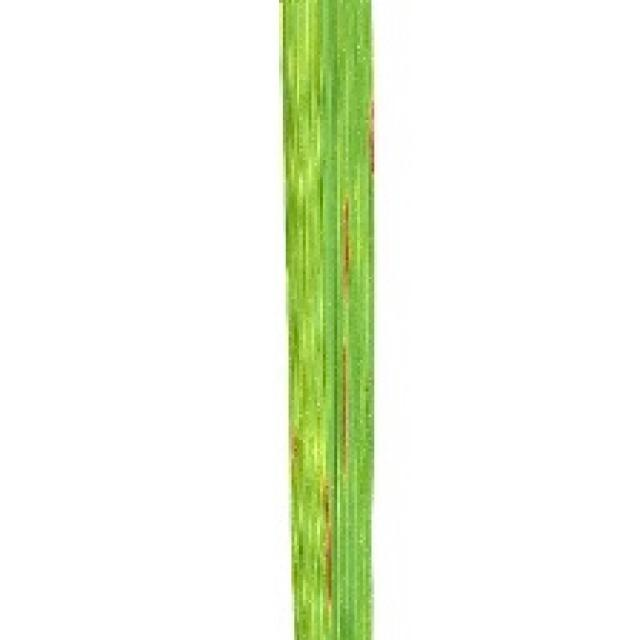Unhealthy: (322, 484, 332, 607), (341, 346, 348, 474), (341, 207, 348, 302), (368, 99, 374, 174), (290, 433, 302, 464)
